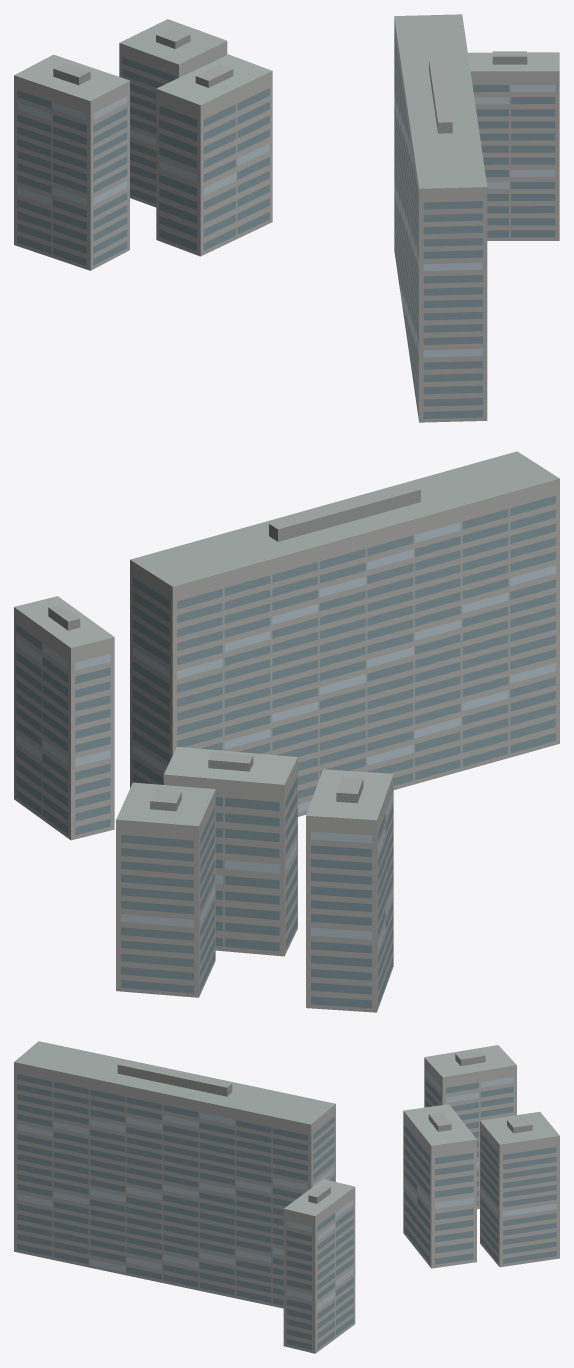
Rendered from apt-a15303102.glb.
3 views of the same model, one above another, from view 1: azimuth 30°, elevation 25°; view 2: azimuth 150°, elevation 25°; view 3: azimuth 270°, elevation 25° (orthographic). The views are drawn at different scales.
Parts seen in each view (by area): view 1: apt-a15303102; view 2: apt-a15303102; view 3: apt-a15303102.
Part boxes in pixels (x1=…): apt-a15303102: x1=14, y1=14, x2=559, y2=422; apt-a15303102: x1=14, y1=451, x2=559, y2=1012; apt-a15303102: x1=14, y1=1041, x2=559, y2=1353.
Size of the model in its own units: 94.34 by 51 by 127.
